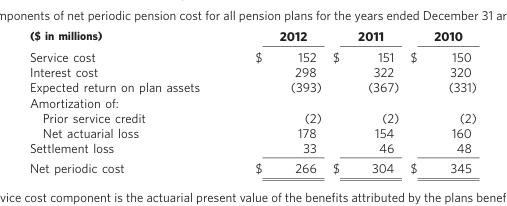table: (28, 28, 475, 175)
table column: (28, 28, 226, 175), (226, 28, 326, 175), (326, 28, 403, 175), (403, 28, 475, 175)
table column header: (28, 28, 475, 46)
table projected row header: (28, 94, 475, 109)
table row: (28, 28, 475, 46), (28, 46, 475, 64), (28, 139, 475, 157), (28, 157, 475, 175), (28, 64, 475, 79), (28, 79, 475, 94), (28, 94, 475, 109), (28, 109, 475, 124), (28, 124, 475, 139)
